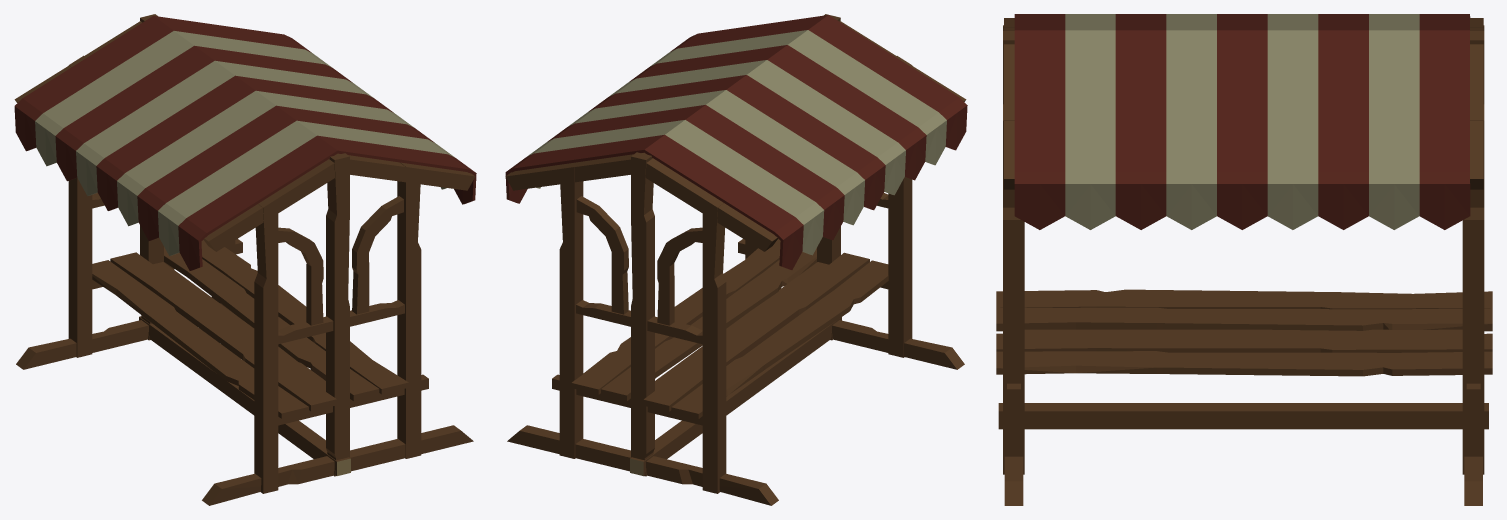
Rendered from Market_Stand.glb.
3 views of the same model, side by side, from view 1: azimuth 30°, elevation 25°; view 2: azimuth 150°, elevation 25°; view 3: azimuth 270°, elevation 25° (orthographic). The views are drawn at different scales.
Visible parts, largest first — view 1: Market_Stand_Merged; view 2: Market_Stand_Merged; view 3: Market_Stand_Merged.
Boxes of the visible parts, x1,y1,x2,y2 form: Market_Stand_Merged: (14, 14, 476, 505); Market_Stand_Merged: (505, 14, 967, 505); Market_Stand_Merged: (996, 14, 1492, 505).
Size of the model in its own units: 0.9509 by 1.05 by 1.19.
